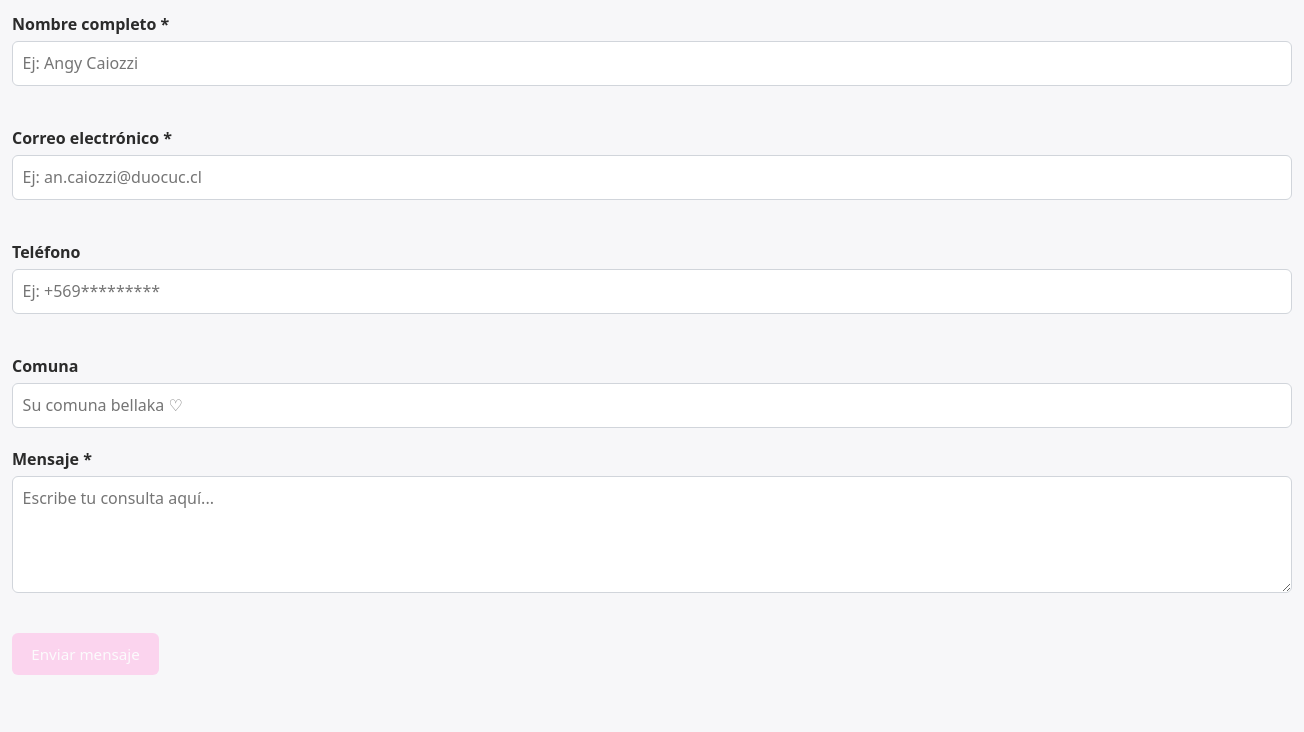
Test: ContactForm Component › habilita el botón cuando se escriben 10 o más caracteres
In the text box labelled "Mensaje *": (652, 534) [12, 476, 1292, 593], type "Excelente perfume"
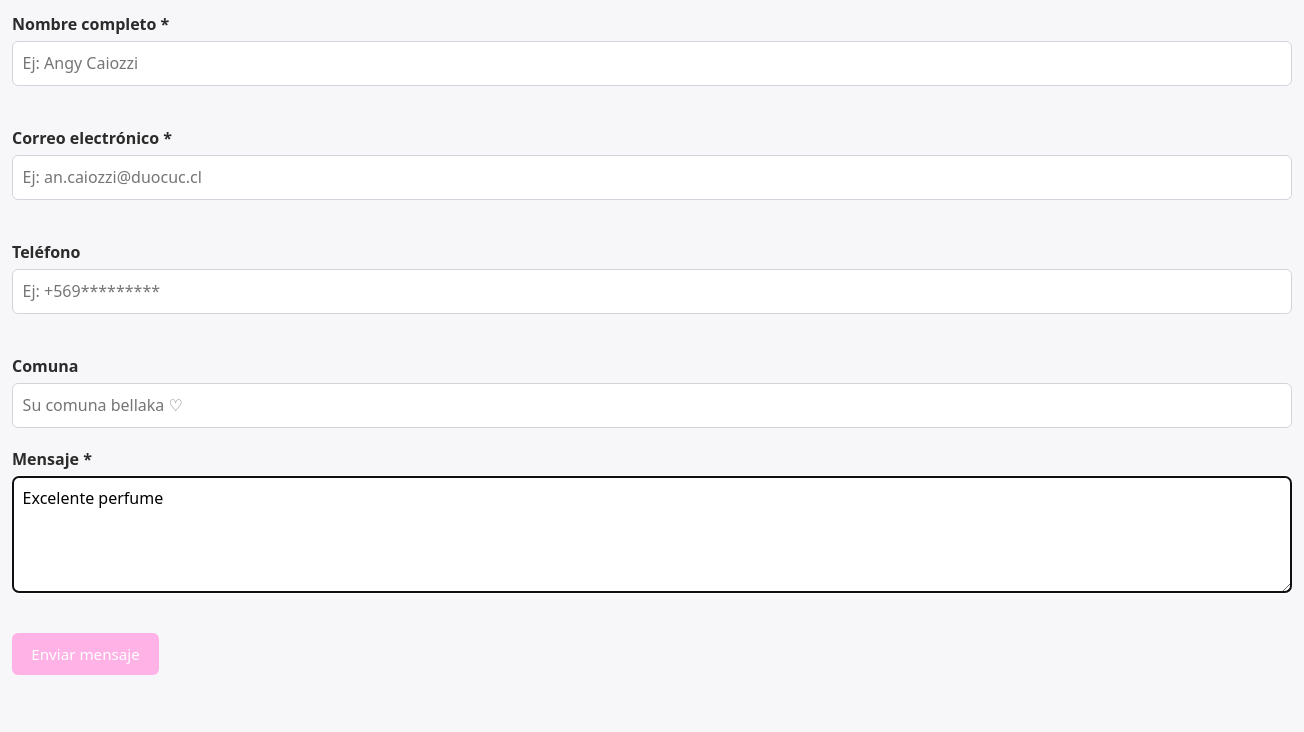
Check: the button "Enviar mensaje" is enabled, box [12, 633, 159, 675]
